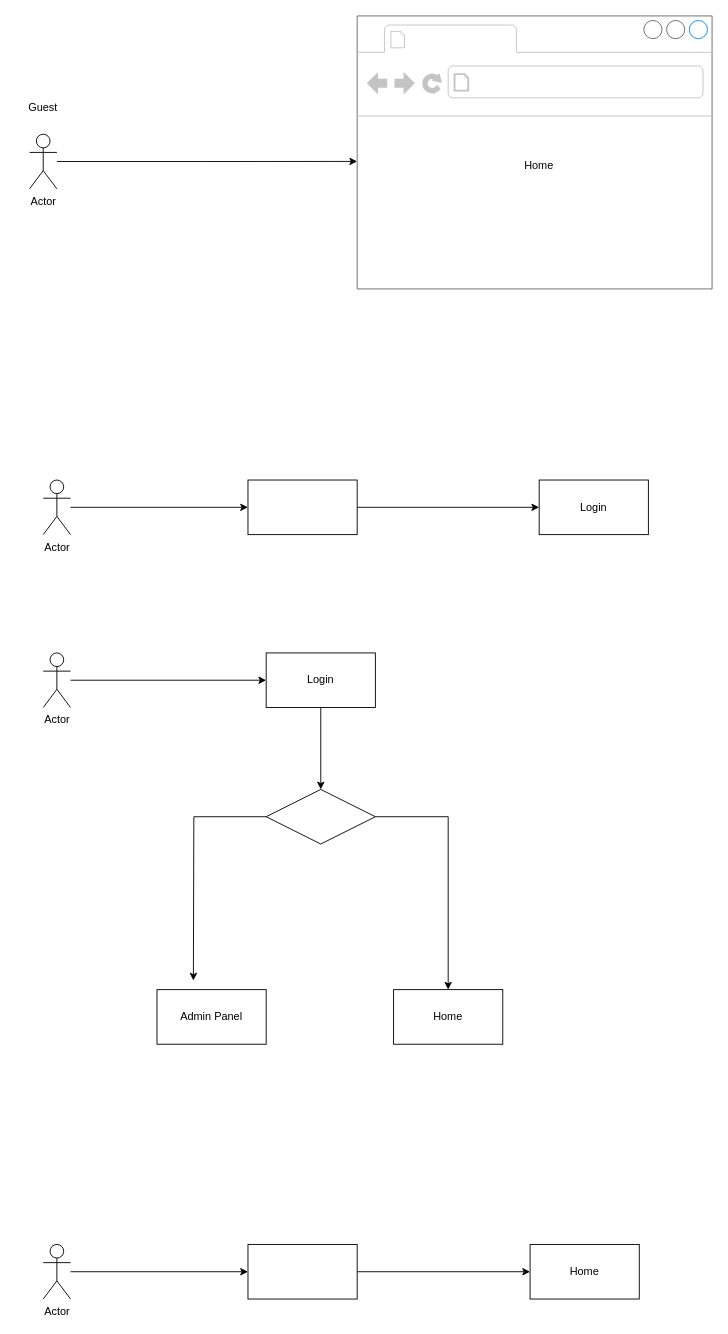
The diagram is 728 pixels wide and 1334 high, and some of its shapes have lost their labels. Each missing label, with the box of its shape:
https://www.draw.io: (475, 70, 703, 94)
is Admin?: (265, 789, 375, 844)
Logout: (247, 1244, 357, 1299)
Page 1: (411, 26, 512, 51)
Register: (247, 479, 357, 535)
